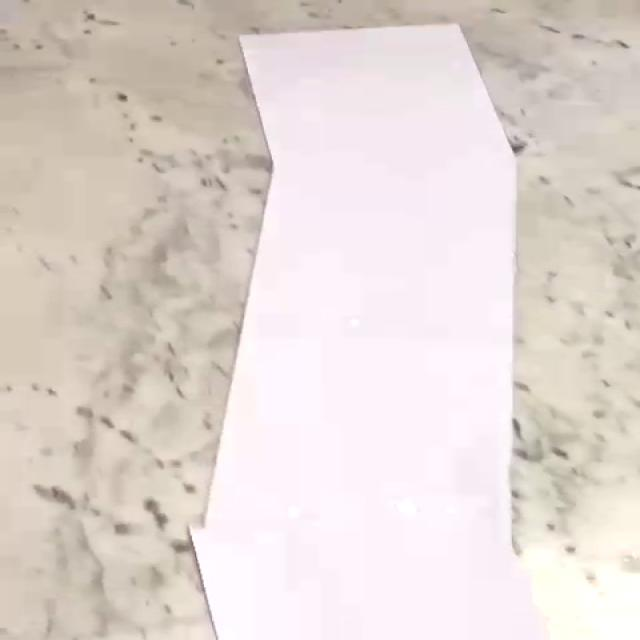road: (192, 23, 548, 640)
